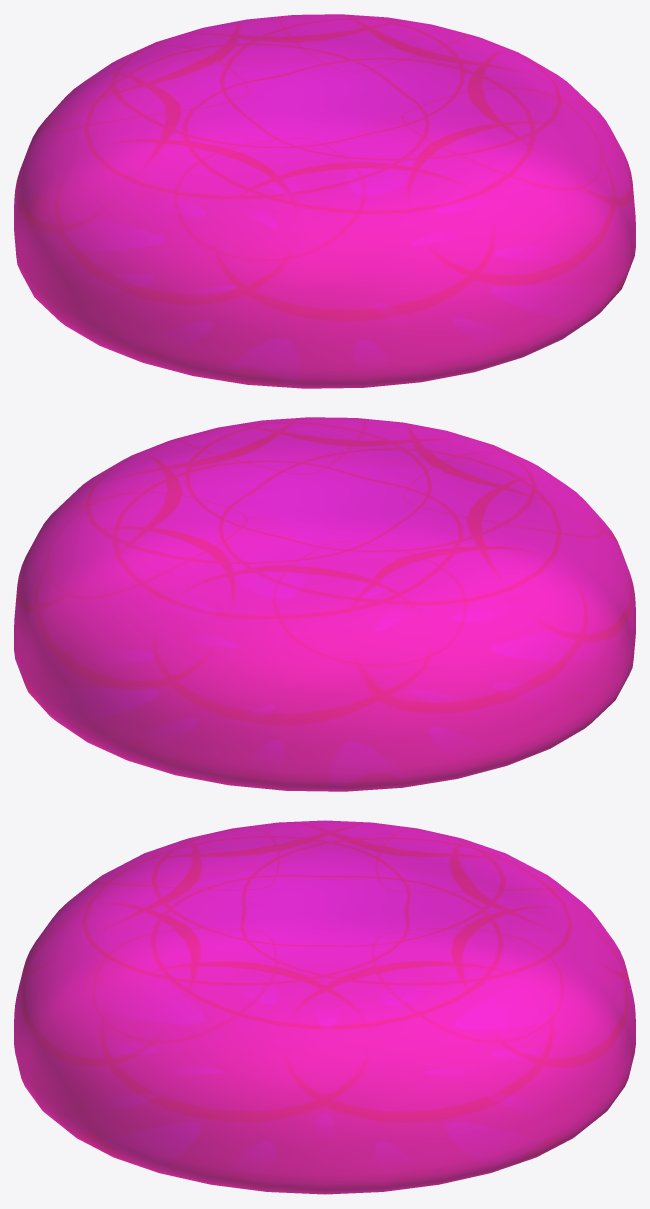
The model's file is Jelly_Platform.fbx.
3 renders of one model, top to bottom at view 1: azimuth 30°, elevation 25°; view 2: azimuth 150°, elevation 25°; view 3: azimuth 270°, elevation 25°, orthographic.
Visible parts, largest first — view 1: pCylinder1; view 2: pCylinder1; view 3: pCylinder1.
Boxes of the visible parts, box(x1,y1,x2,y2) form: pCylinder1: box(14, 14, 635, 388); pCylinder1: box(14, 417, 635, 791); pCylinder1: box(14, 820, 635, 1194).
Size of the model in its own units: 29.07 by 9.13 by 29.07.
